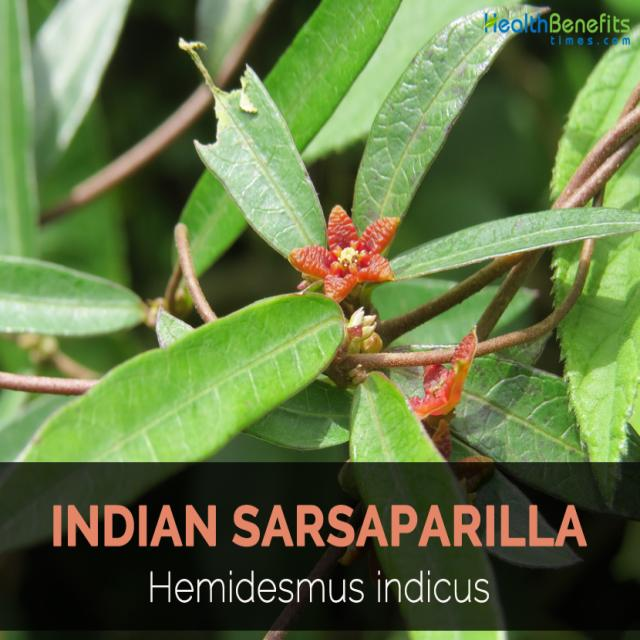Anantamul: (88, 36, 595, 451)
